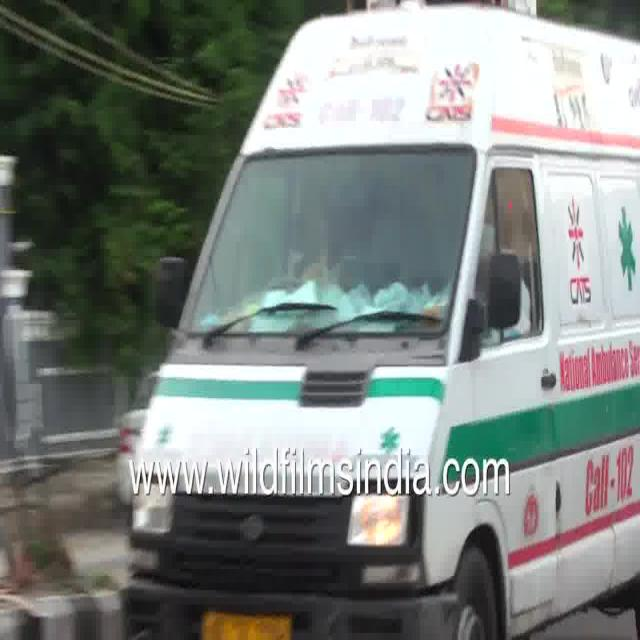ambulance: (167, 13, 640, 455), (124, 518, 640, 640)
